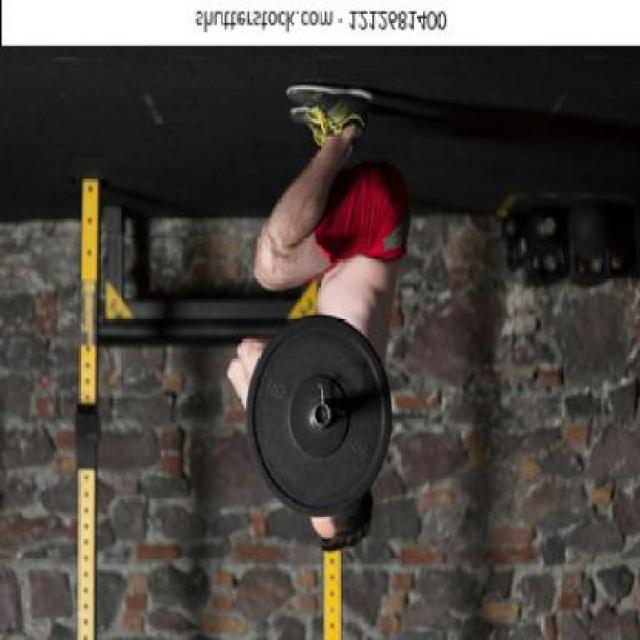Barbell: (312, 400, 332, 429)
